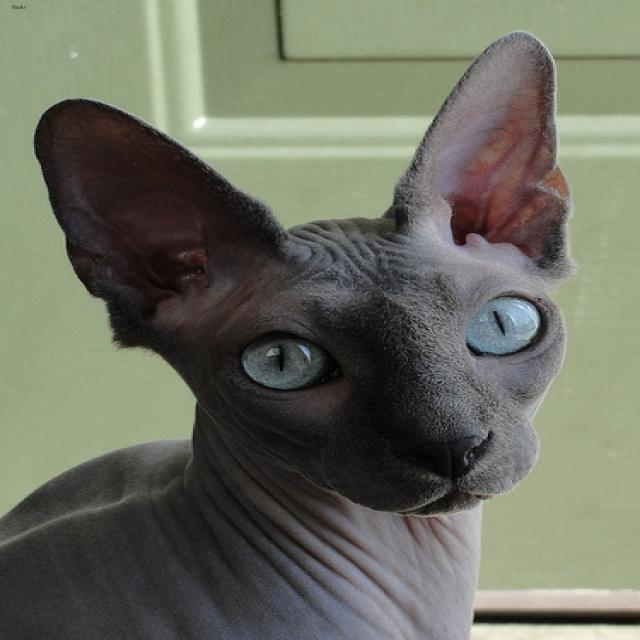cat: (31, 29, 572, 514)
